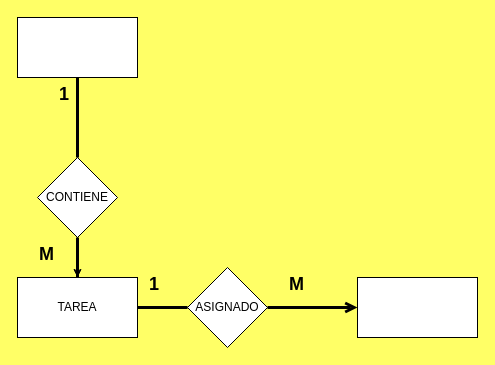
This 495x365 diagram has some shape labels left out. Each missing label, with the centre of its shape:
"PROYECTO" goes at point 77,47.
"USUARIO" goes at point 417,307.
